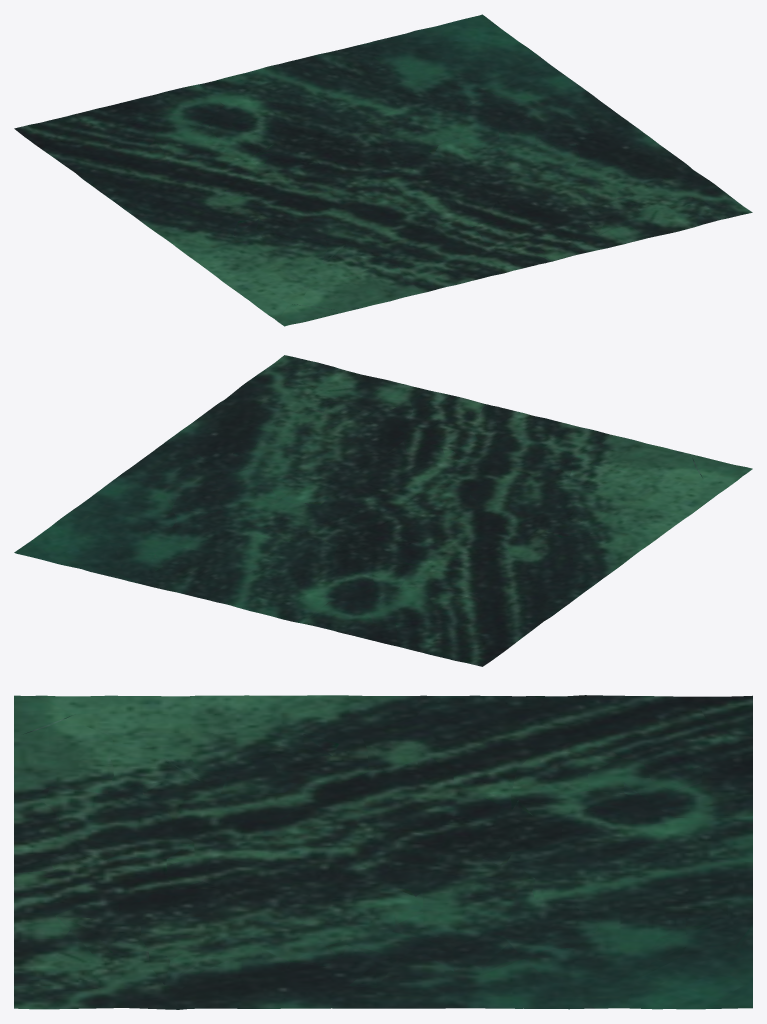
The picture shows the model from 3 angles, top to bottom: view 1: azimuth 30°, elevation 25°; view 2: azimuth 150°, elevation 25°; view 3: azimuth 270°, elevation 25°; orthographic projection. The views are drawn at different scales.
Bounding box in the file's own units: 104 × 0.4931 × 104.
Materials: 2 (2 with a texture image).
